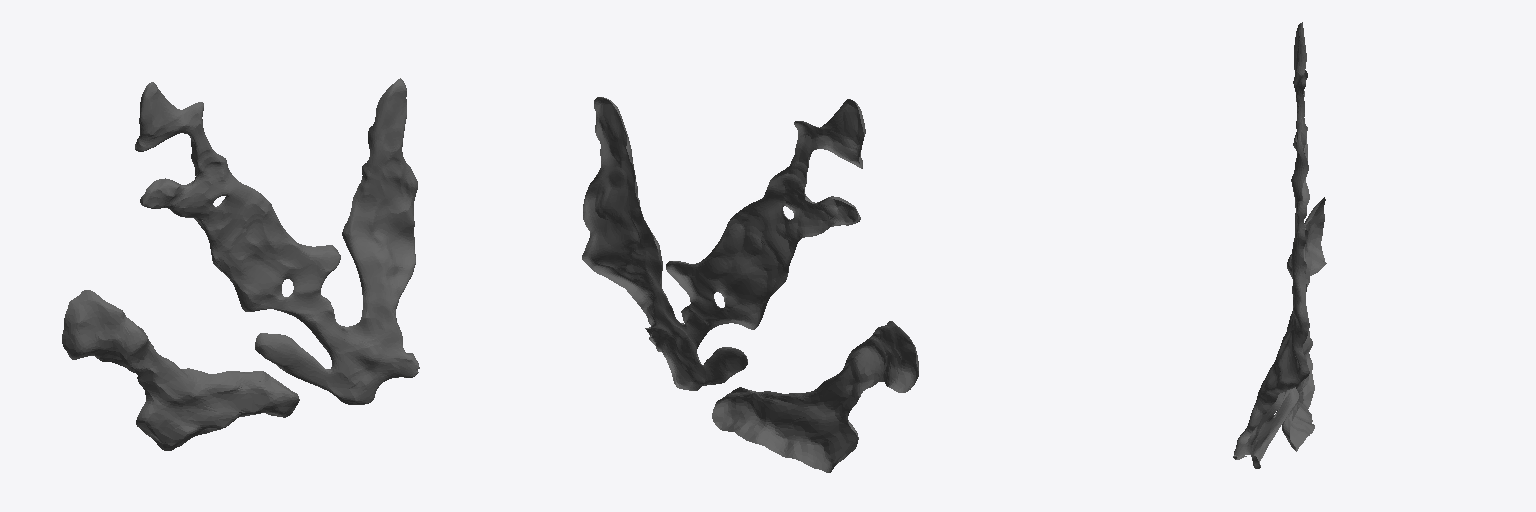
The model's file is lava.obj.
3 renders of one model, left to right at view 1: azimuth 30°, elevation 25°; view 2: azimuth 150°, elevation 25°; view 3: azimuth 270°, elevation 25°, orthographic.
Parts seen in each view (by area): view 1: Object043.001_Mesh.128, Object043_Mesh.120; view 2: Object043.001_Mesh.128, Object043_Mesh.120; view 3: Object043.001_Mesh.128, Object043_Mesh.120.
Boxes of the visible parts, x1=… form: Object043.001_Mesh.128: x1=135, y1=78, x2=419, y2=404; Object043_Mesh.120: x1=62, y1=290, x2=299, y2=450; Object043.001_Mesh.128: x1=582, y1=97, x2=865, y2=390; Object043_Mesh.120: x1=712, y1=321, x2=918, y2=472; Object043.001_Mesh.128: x1=1233, y1=22, x2=1309, y2=468; Object043_Mesh.120: x1=1282, y1=197, x2=1326, y2=451.
Bounding box in the file's own units: 19.27 × 20.13 × 4.54.